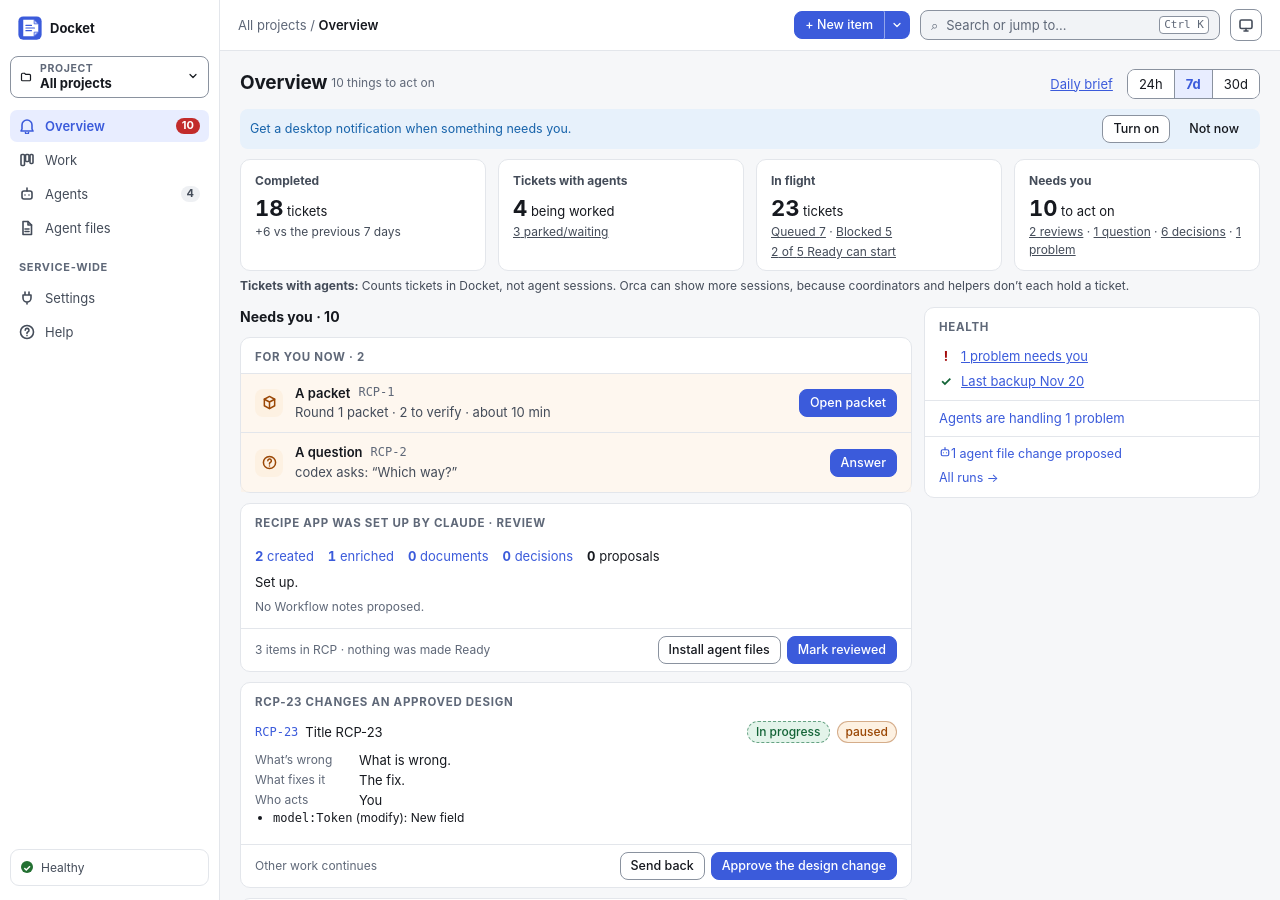
Scenario: the time window › ignores a bad stored value, and works when storage throws
Click the button "24h": (1151, 84) [1128,70,1175,98]
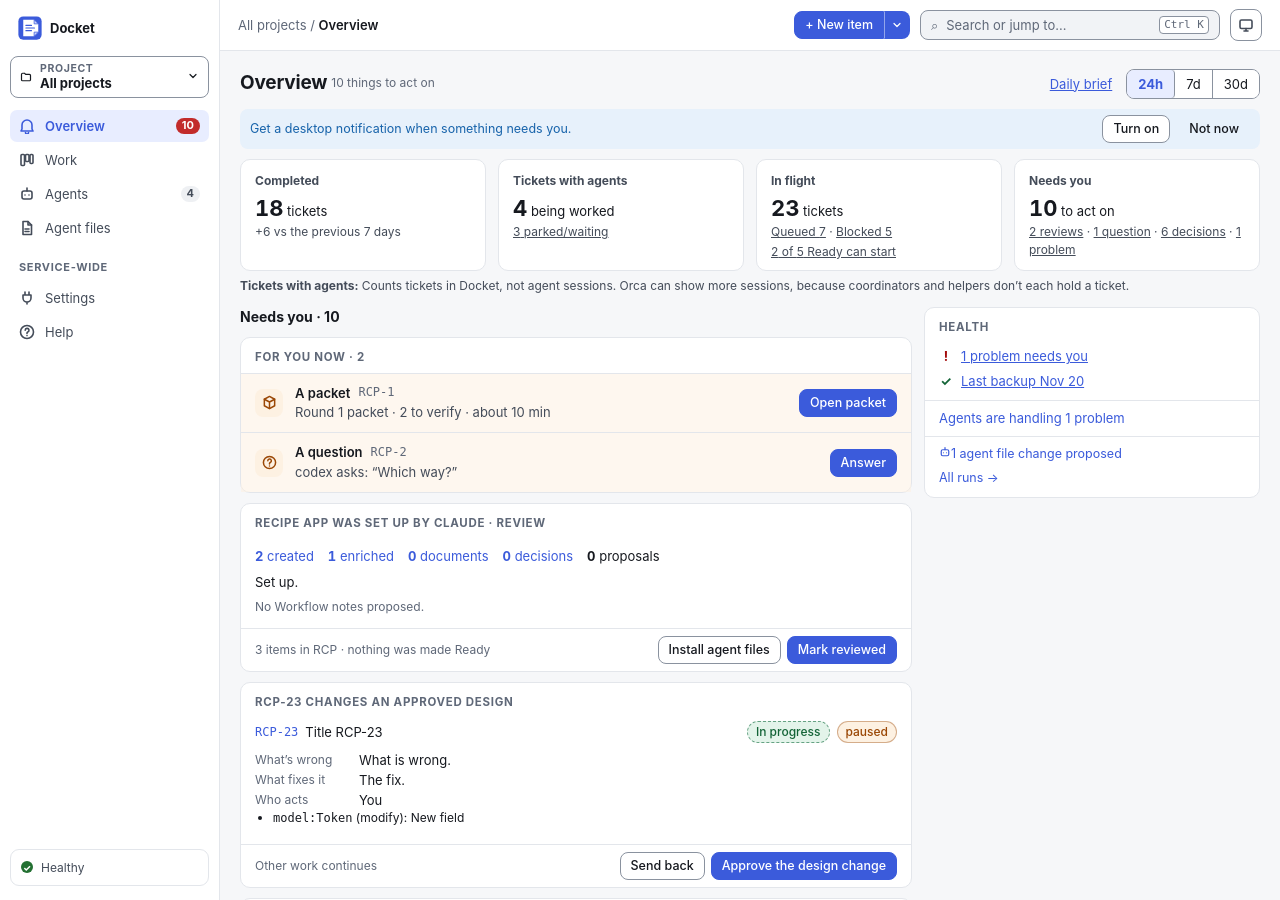
Expected: the button "24h" is pressed, [1127,70,1175,98]
